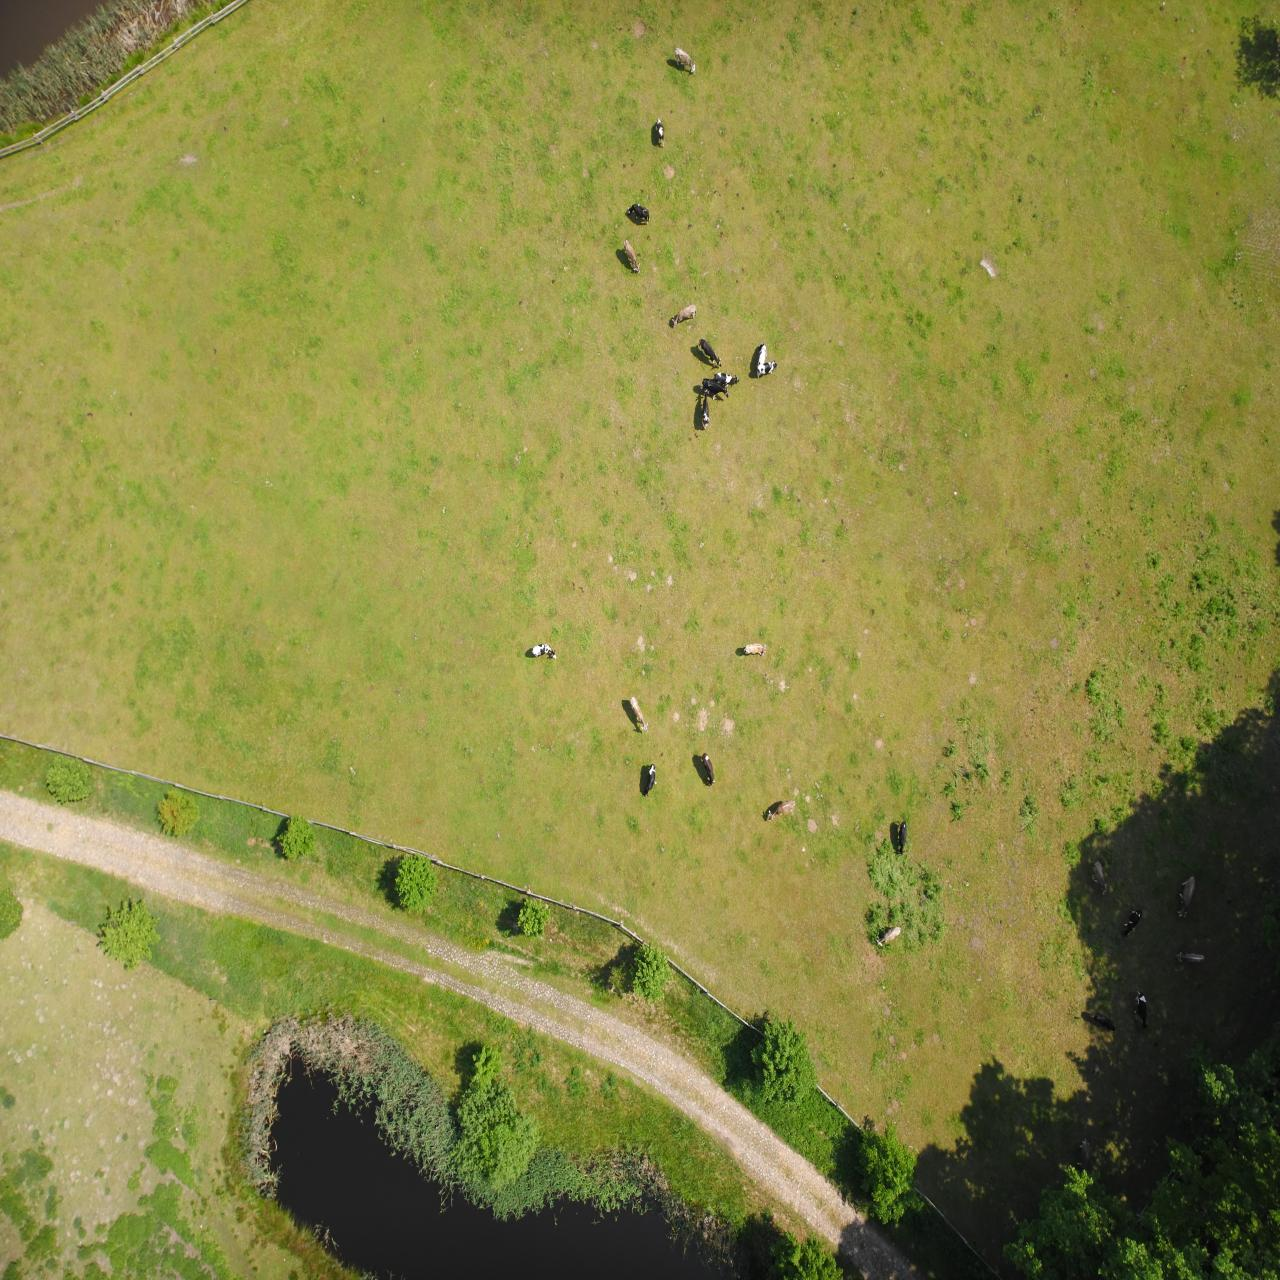cow: (632, 546, 651, 584), (558, 913, 581, 941), (485, 458, 512, 481), (552, 880, 578, 903), (585, 1206, 606, 1233), (640, 1007, 656, 1041), (584, 952, 608, 974), (379, 334, 404, 353), (565, 492, 578, 527), (629, 1056, 652, 1076), (622, 483, 635, 517), (723, 620, 748, 638), (570, 851, 578, 891), (540, 894, 565, 907), (373, 424, 381, 459), (513, 624, 538, 635), (503, 906, 522, 918), (615, 1132, 622, 1162)
